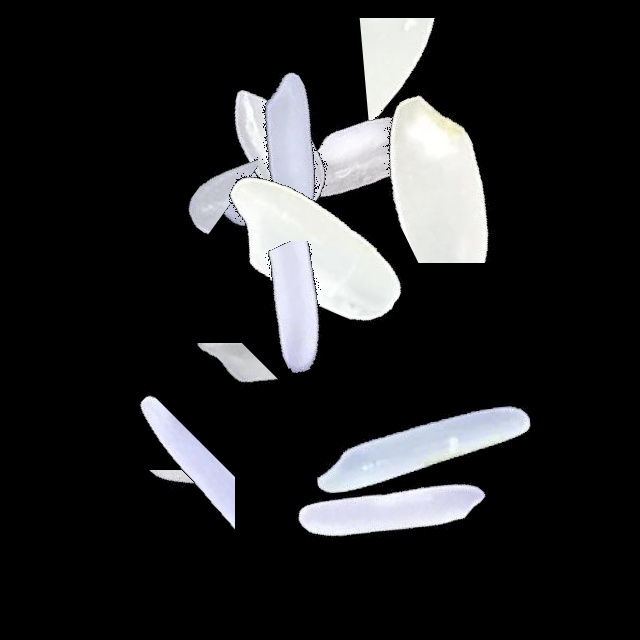Broken: (347, 90, 597, 263), (183, 241, 433, 400), (99, 381, 235, 631), (206, 98, 331, 348), (298, 18, 548, 135), (145, 22, 258, 272), (95, 343, 345, 445), (42, 470, 292, 559), (428, 362, 505, 612)
Full: (233, 35, 483, 285), (150, 28, 400, 278), (168, 16, 418, 266), (266, 381, 516, 631), (189, 124, 439, 374), (297, 323, 547, 573)
